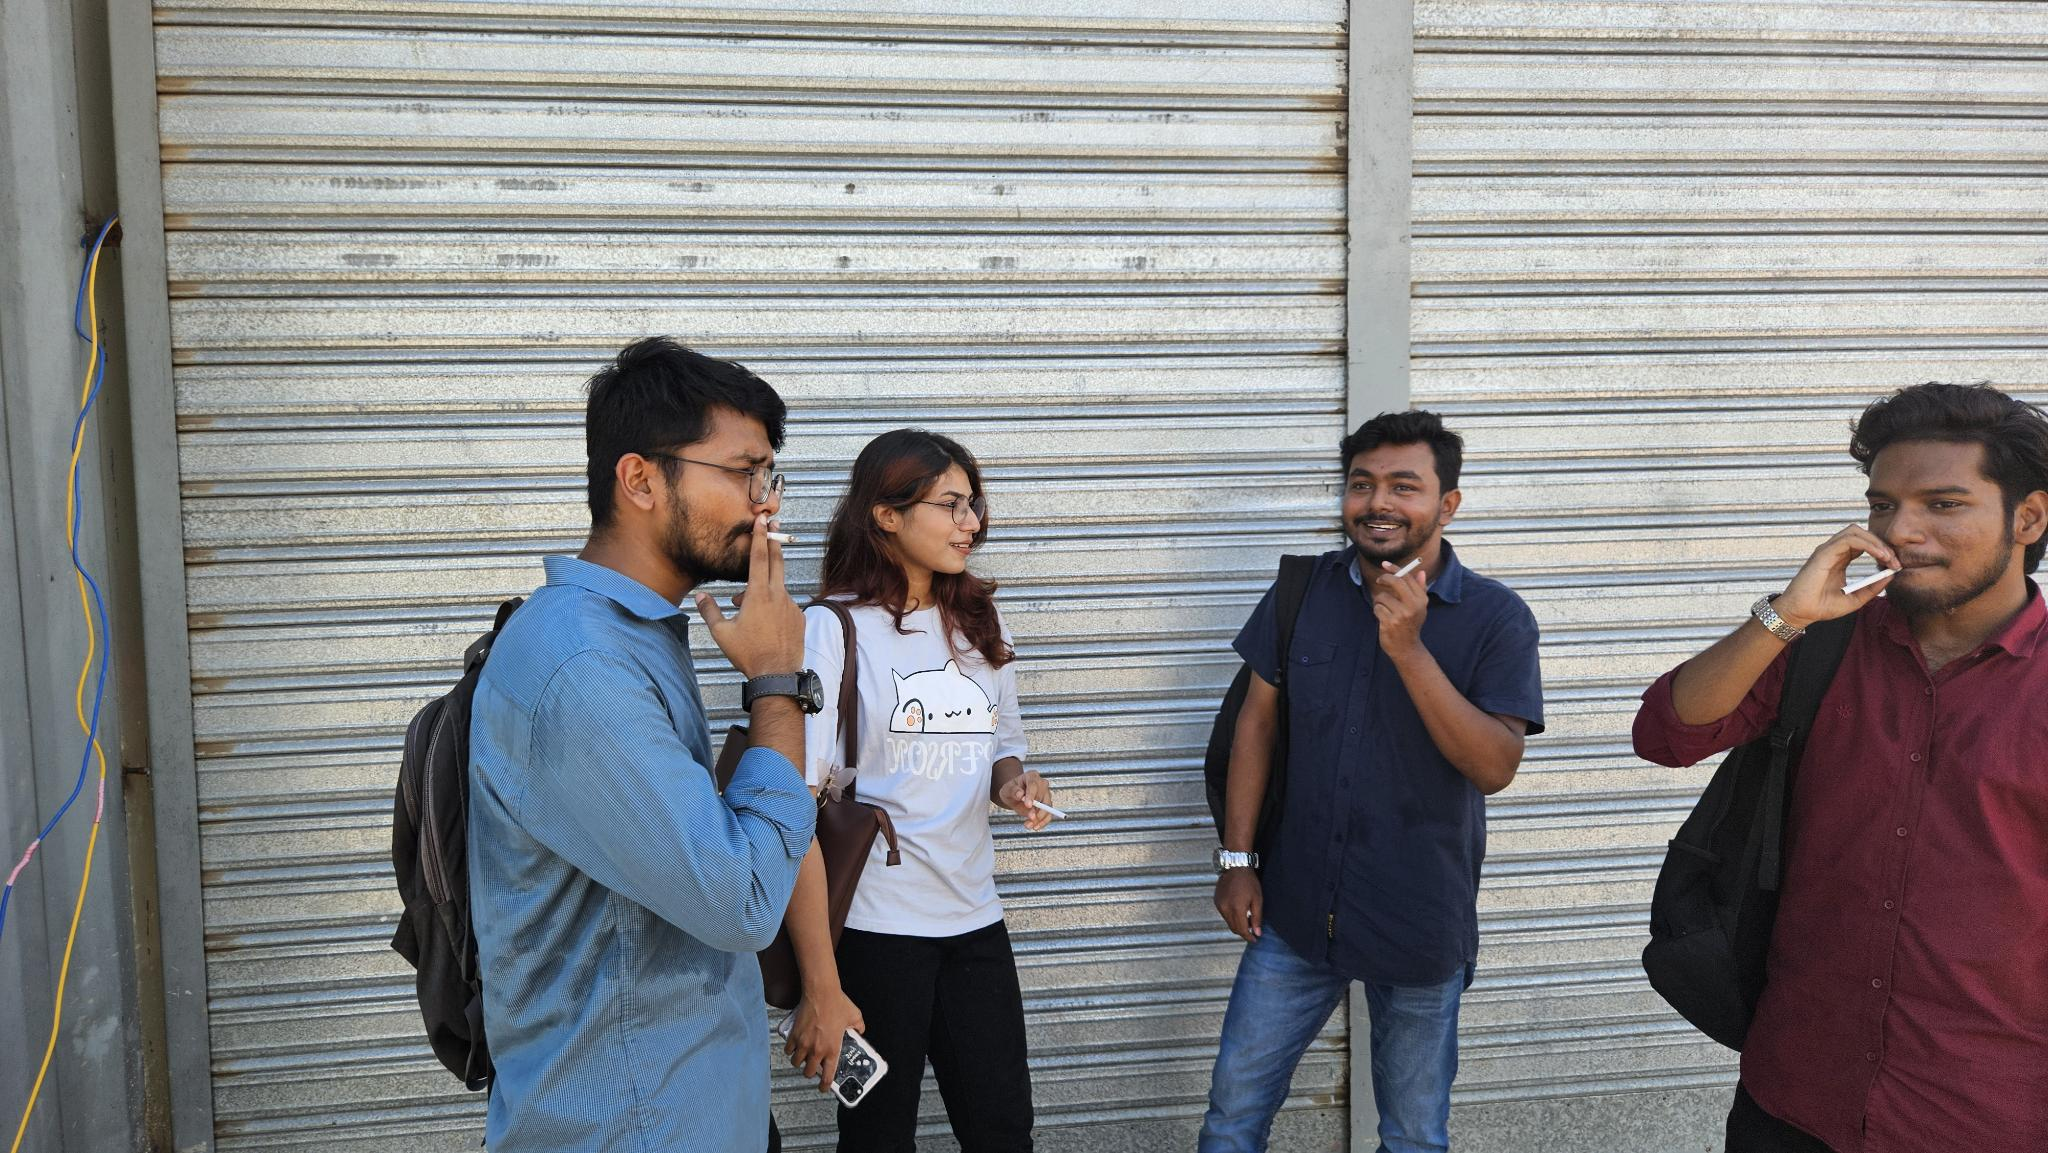cigarette: (1837, 564, 1905, 599), (1020, 793, 1070, 821), (1391, 554, 1425, 579), (764, 529, 803, 547)
smoker: (388, 335, 826, 1153), (1634, 381, 2048, 1153), (1198, 409, 1544, 1153), (765, 429, 1052, 1153)
